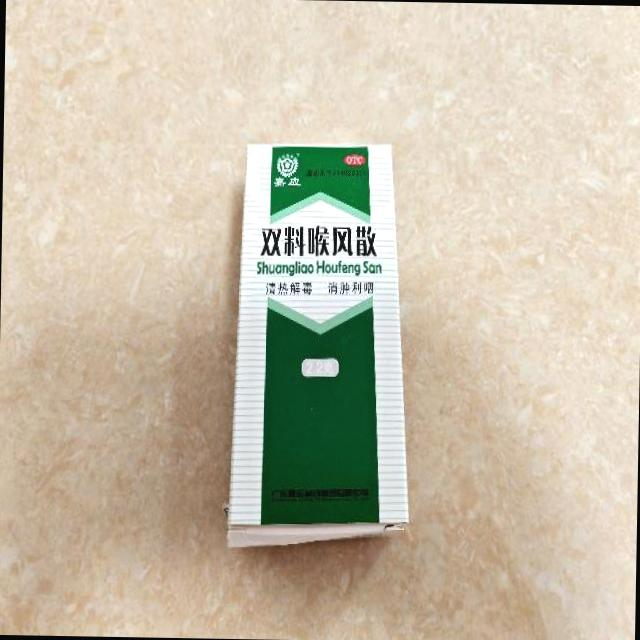box: (225, 140, 416, 548)
